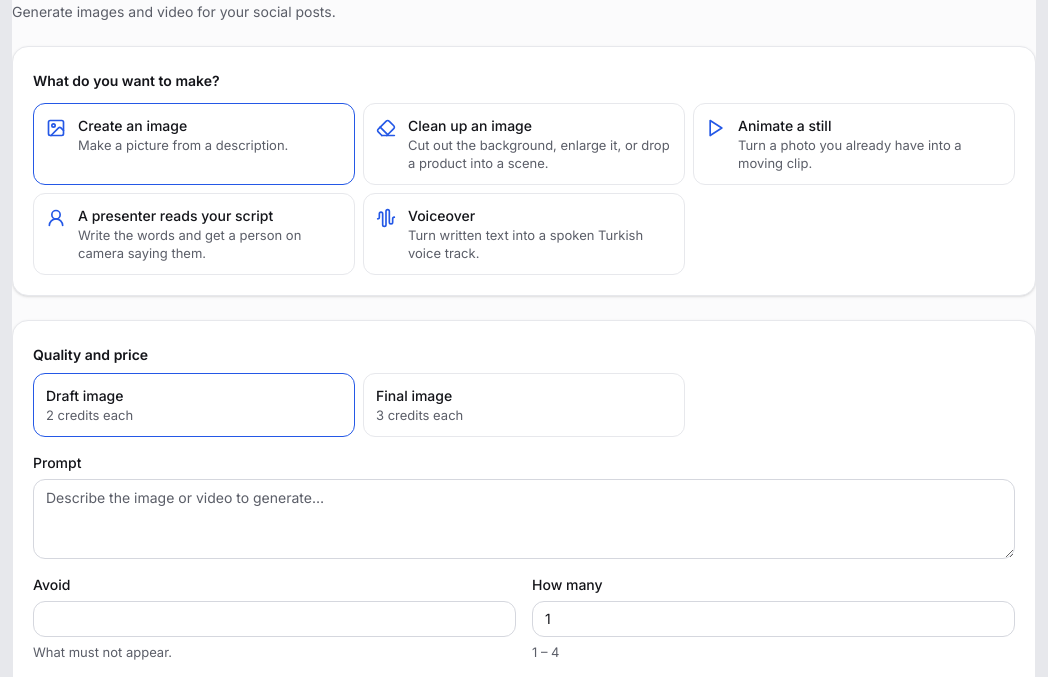
AiStudioPage — technique-first, contract-driven panel › quotes the credits before the click and re-prices when the resolution tier changes
Click the button "Animate a still": (854, 144) [693,103,1015,185]
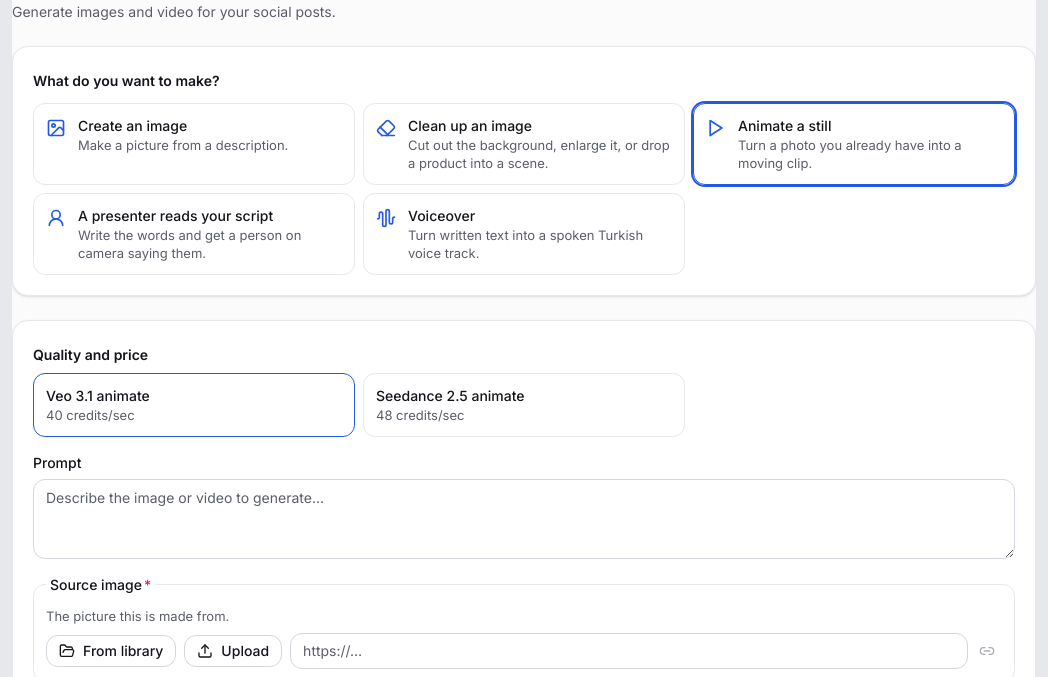
Click the button "Seedance 2.5 animate 48 credits/sec": (524, 405) [363,373,685,437]
(page scrolled)
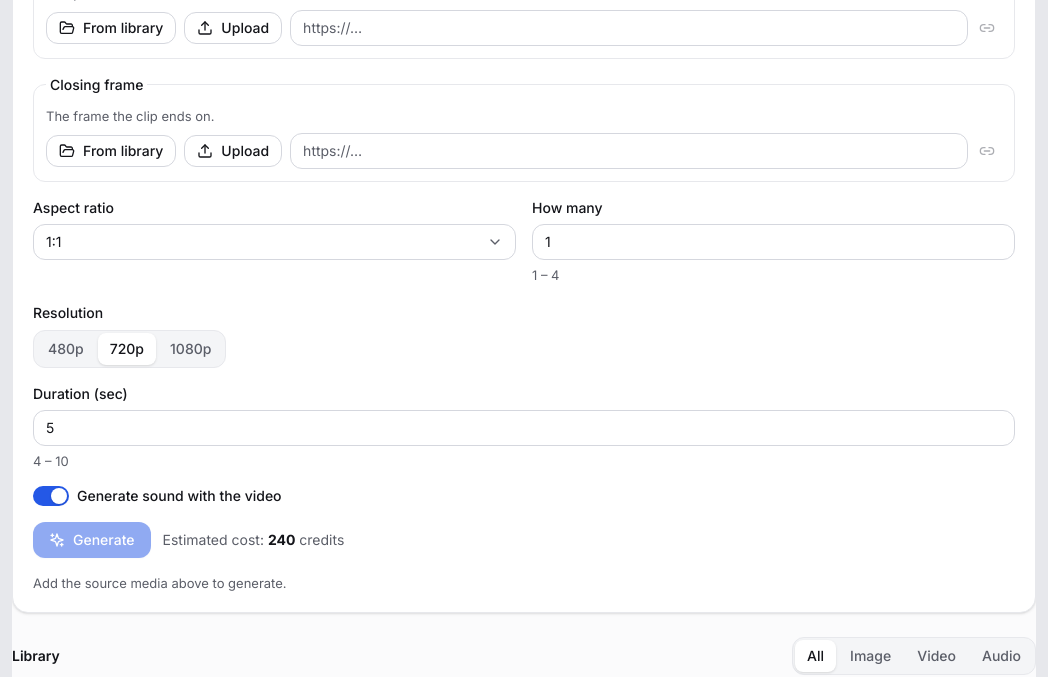
Expected: the text with test id "credit-estimate" reads "240", [268,531,295,548]
480p is a cheaper TIER, not a cheaper average — 23/s.
Click the button "480p": (66, 349) [36,333,96,365]
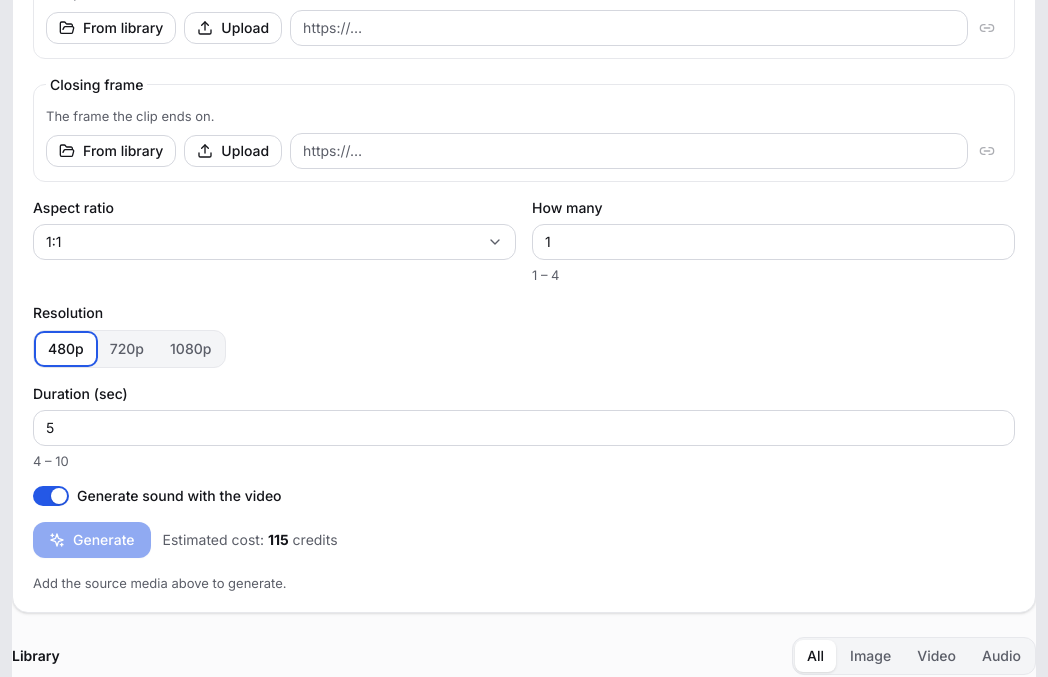
Expected: the text with test id "credit-estimate" reads "115", [268,531,289,548]
…and 1080p is the one that costs real money.
Click the button "1080p": (191, 349) [158,333,223,365]
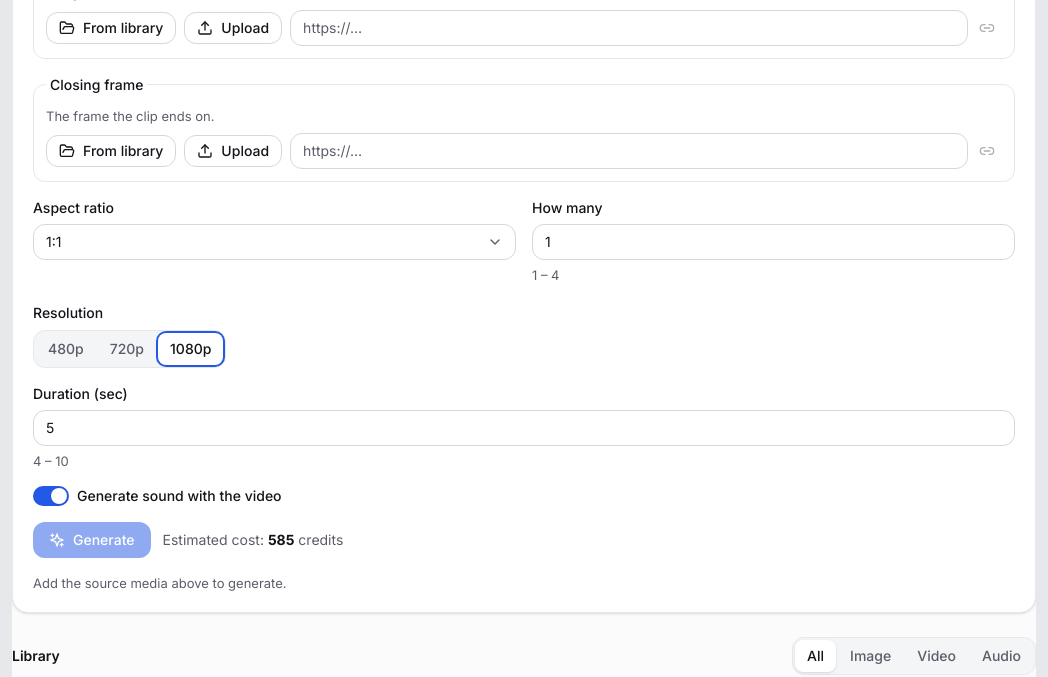
Expected: the text with test id "credit-estimate" reads "585", [268,531,294,548]
